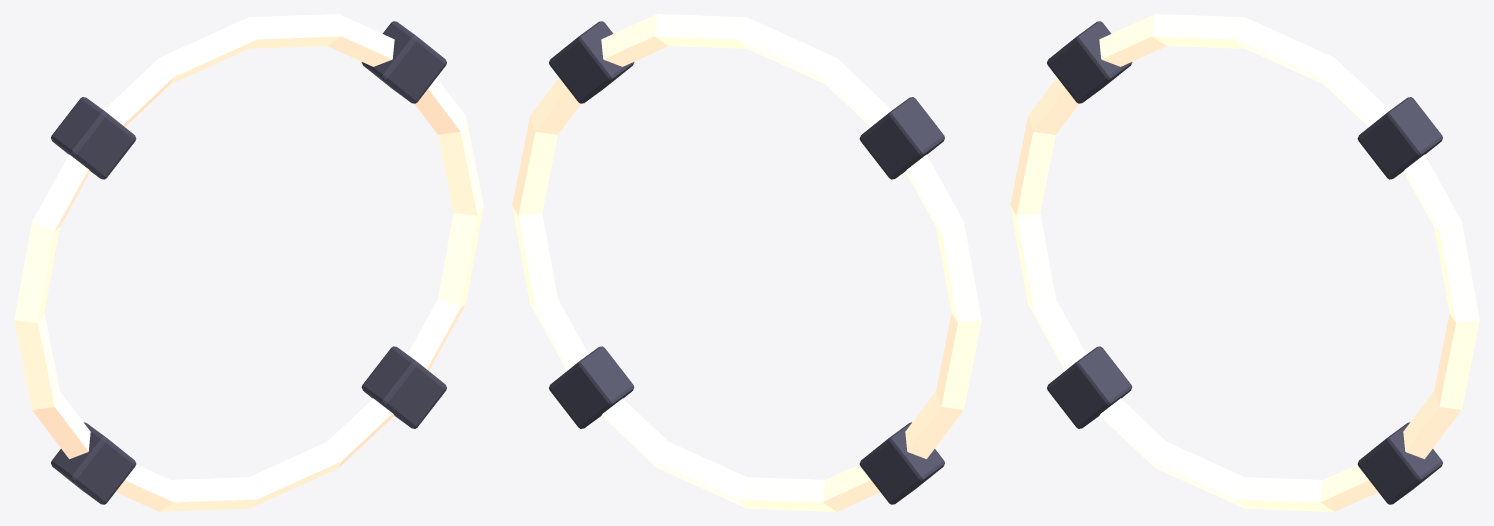
File: ring.glb
The picture shows the model from 3 angles, left to right: view 1: azimuth 30°, elevation 25°; view 2: azimuth 150°, elevation 25°; view 3: azimuth 330°, elevation 25°; orthographic projection.
Visible parts, largest first — view 1: Torus; view 2: Torus; view 3: Torus.
Boxes of the visible parts, <box> form: Torus: <box>14,14,483,511</box>; Torus: <box>512,14,981,511</box>; Torus: <box>1010,14,1479,511</box>.
Bounding box in the file's own units: 6.84 × 6.84 × 0.6.
